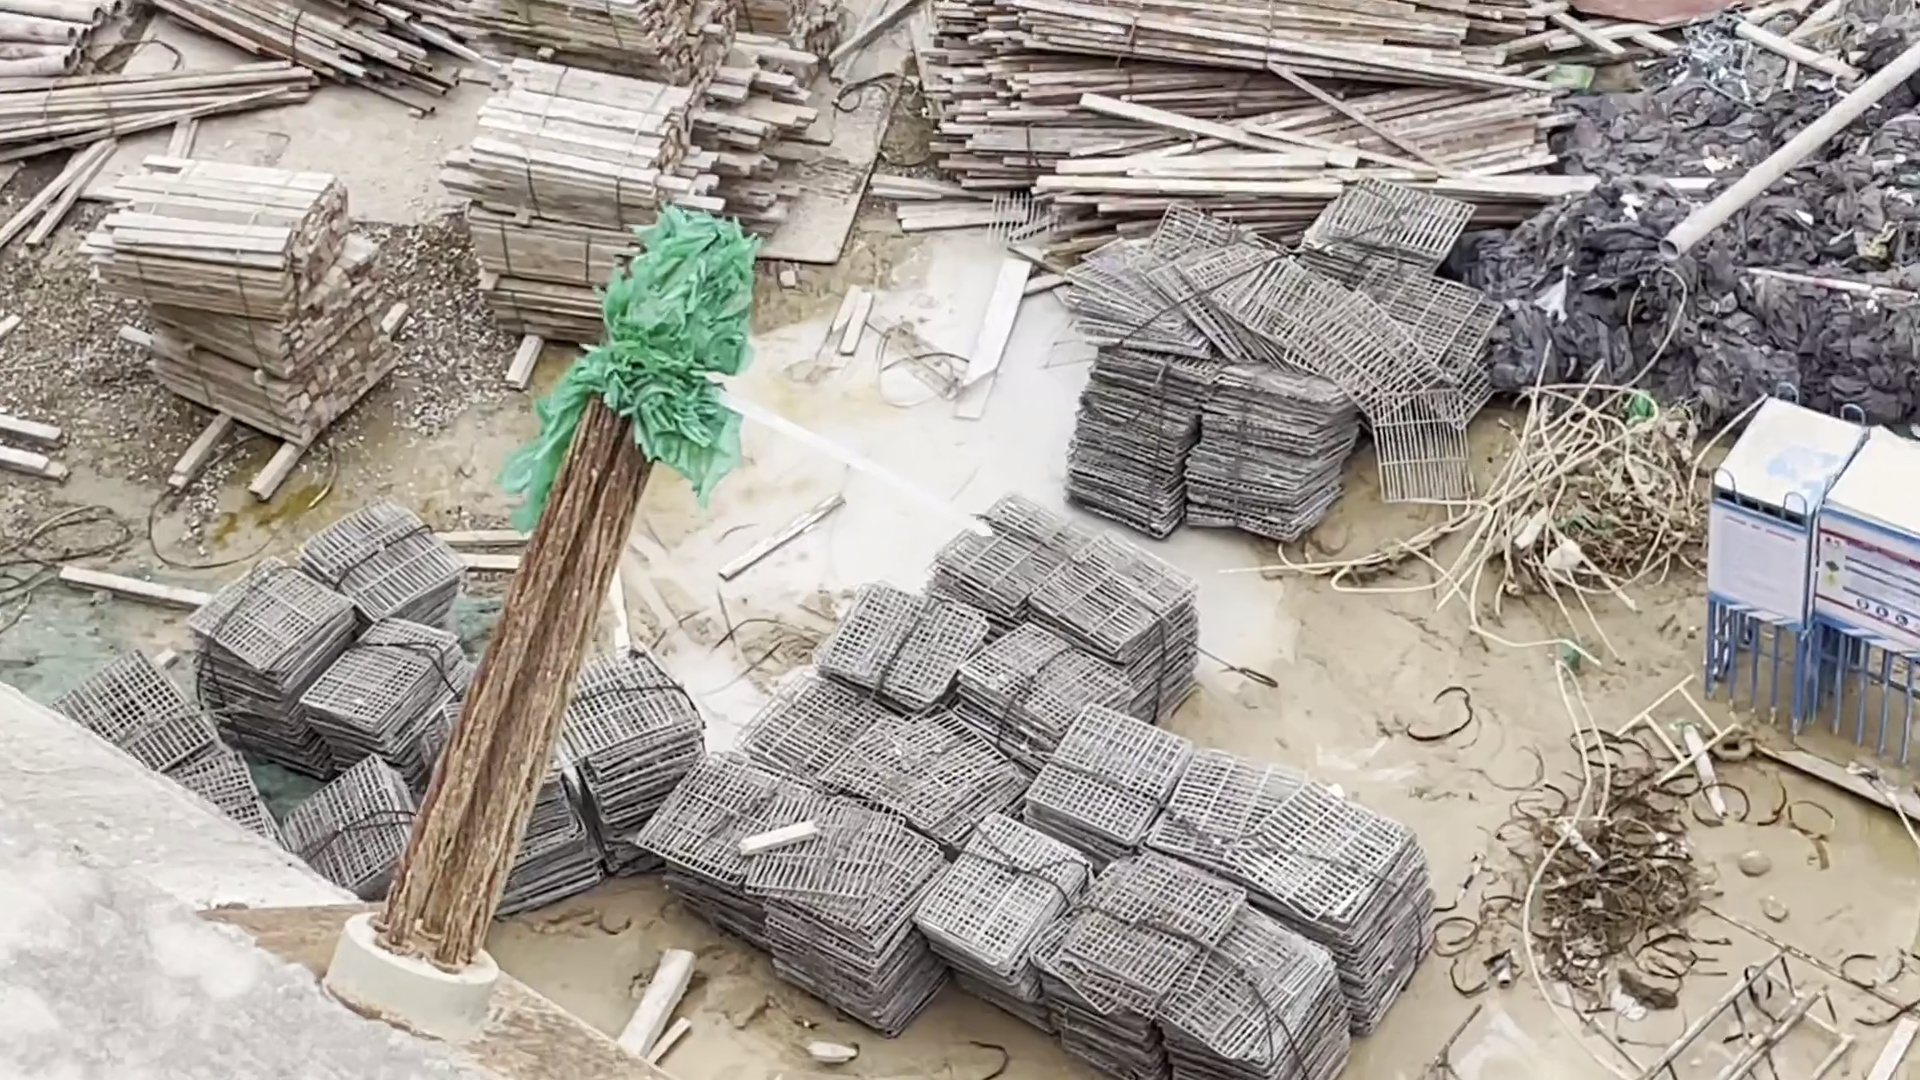wood: (953, 1, 1590, 215), (7, 1, 729, 148), (99, 145, 429, 454), (446, 80, 725, 340)
